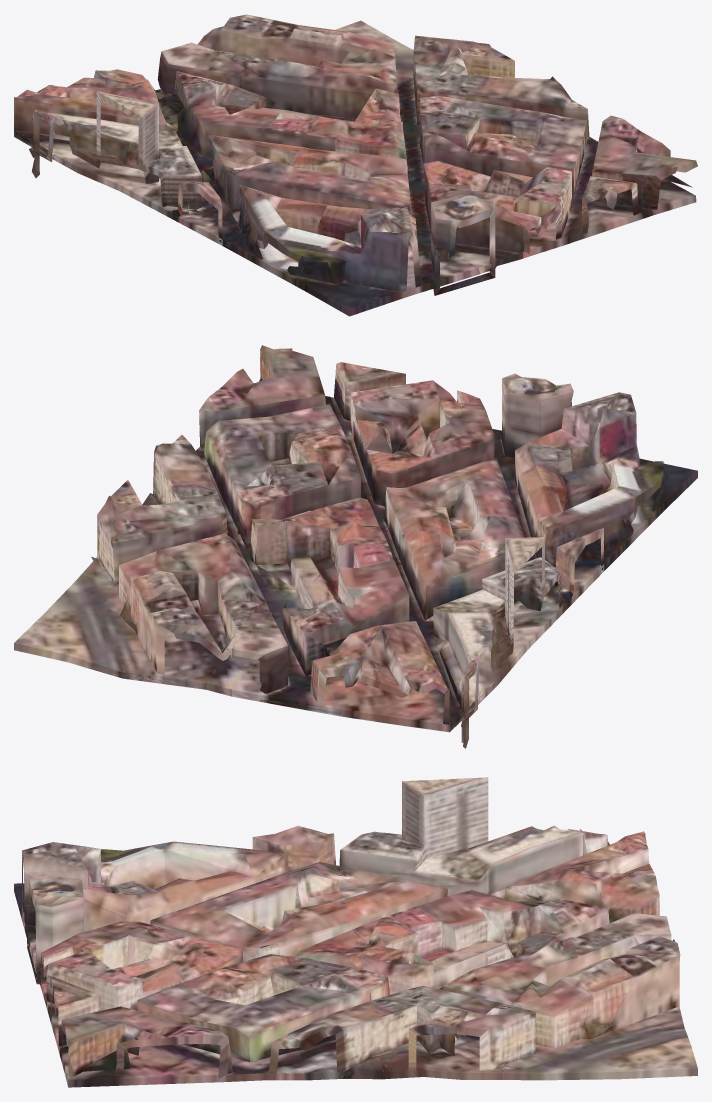
3 views of the same model, one above another, from view 1: azimuth 30°, elevation 25°; view 2: azimuth 150°, elevation 25°; view 3: azimuth 270°, elevation 25° (orthographic). The views are drawn at different scales.
Parts seen in each view (by area): view 1: Mesh_0; view 2: Mesh_0; view 3: Mesh_0.
Boxes of the visible parts, <box> form: Mesh_0: <box>14,14,697,316</box>; Mesh_0: <box>14,345,697,748</box>; Mesh_0: <box>14,777,697,1087</box>.
Bounding box in the file's own units: 267 × 73.05 × 329.
2 materials, 2 textured.
